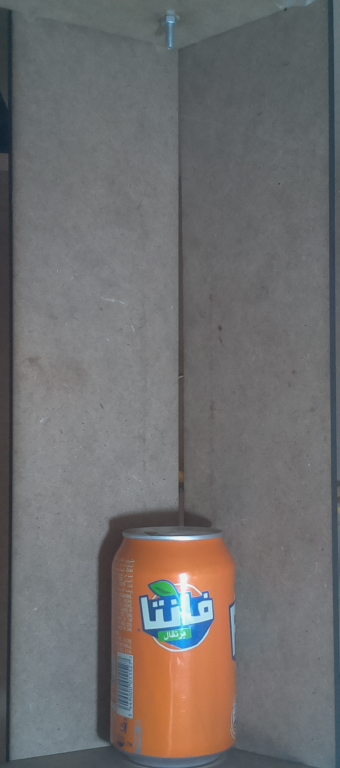Canette: (102, 516, 251, 768)
